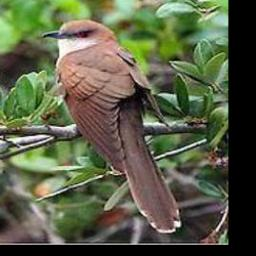Cuckoo: (42, 19, 181, 232)
